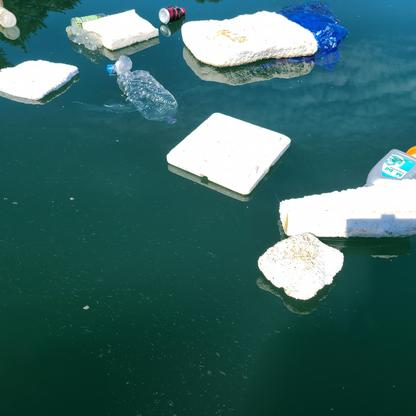can: (158, 19, 183, 21)
foam: (165, 111, 291, 196), (278, 177, 416, 238), (178, 11, 319, 67), (258, 235, 344, 299), (1, 59, 80, 100), (86, 8, 161, 50)
plastic bottle: (106, 58, 177, 120)
